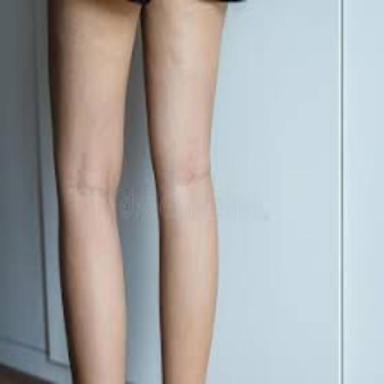normal skin: (51, 0, 140, 384), (144, 0, 226, 384)
